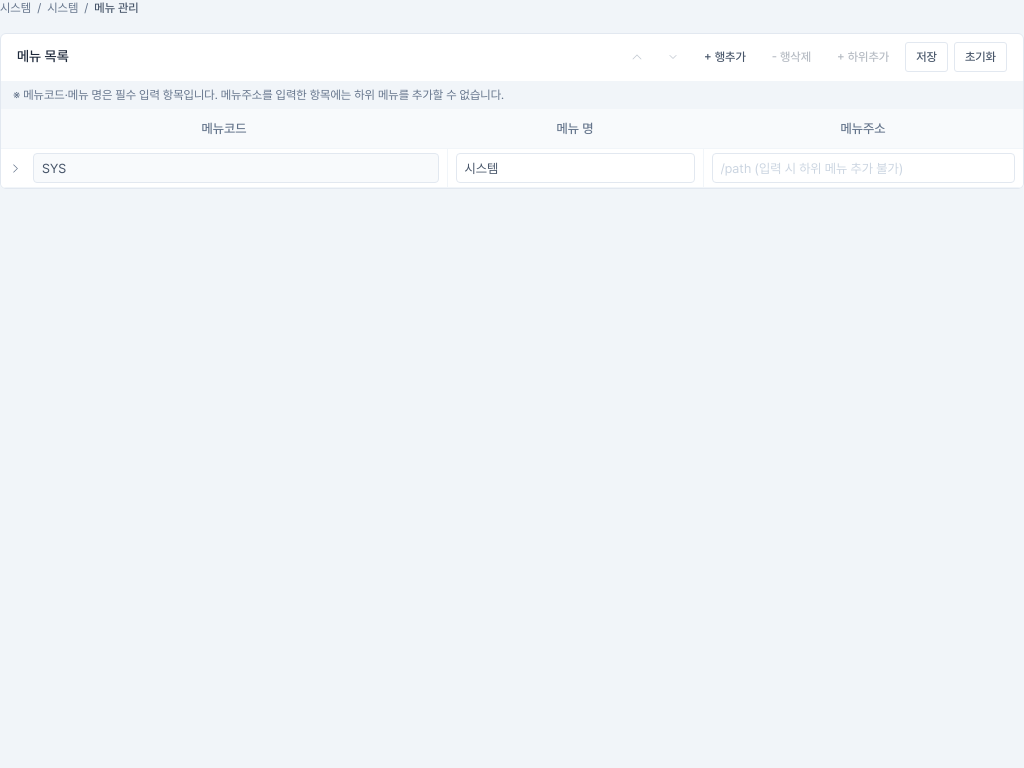
Test case: SystemMenuPage › sends deleted menu rows after delete-list confirmation
This screenshot has width=1024, height=768.
Step 1. Click the button named "펼치기" → {"x": 15, "y": 168}, box [5, 158, 25, 178]
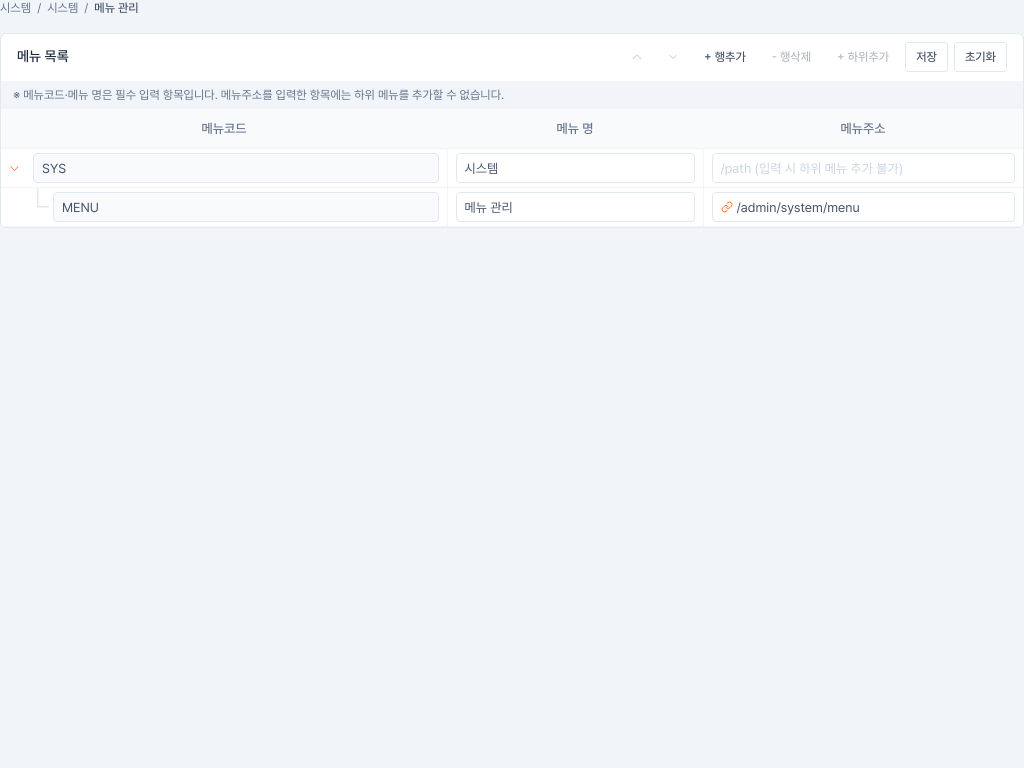
Step 2. Click the field named "MENU 메뉴명" → {"x": 575, "y": 207}, box [464, 193, 686, 221]
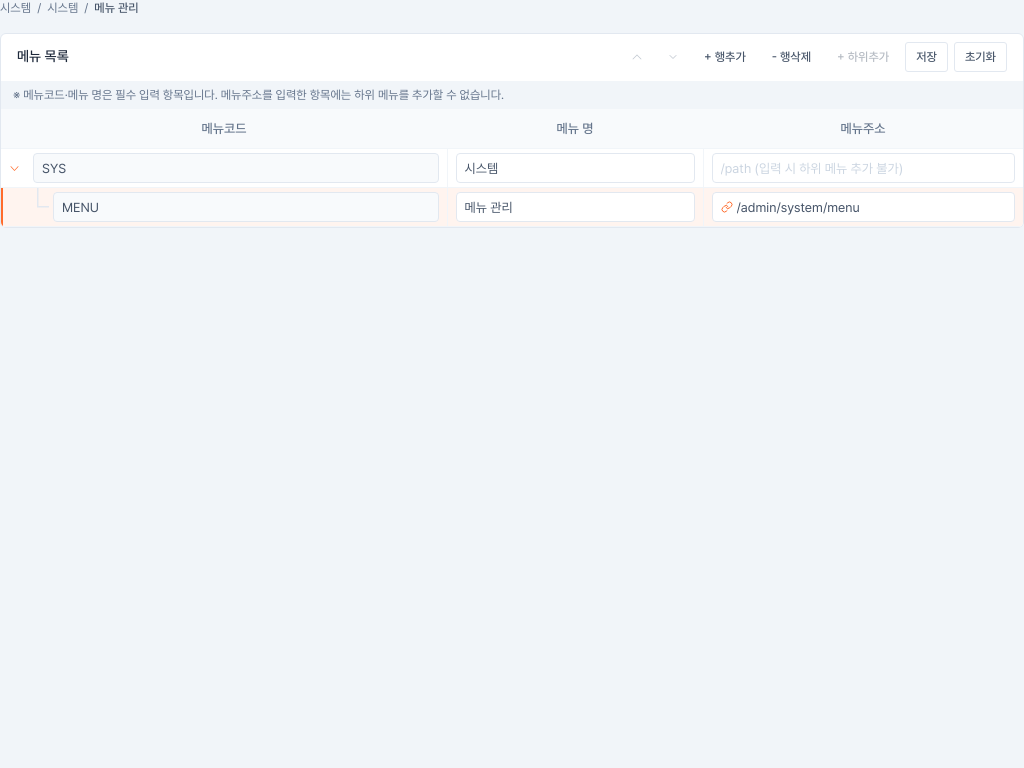
Step 3. Click the button "- 행삭제" → {"x": 791, "y": 57}, box [762, 49, 821, 65]
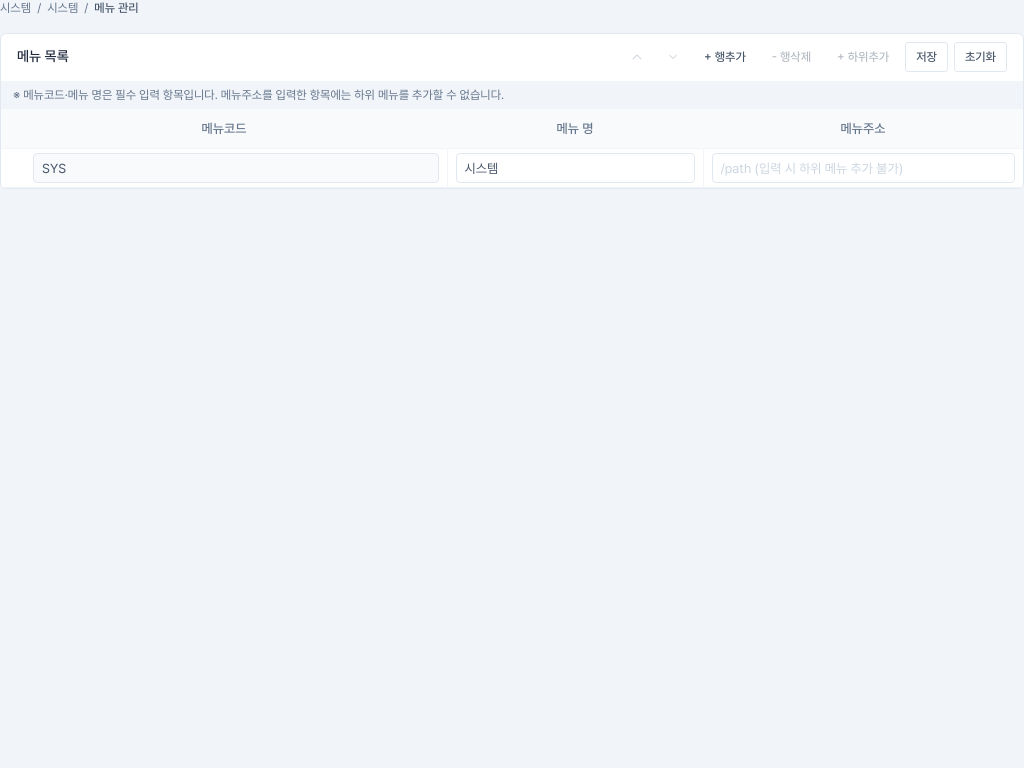
Step 4. Click the button "저장" → {"x": 926, "y": 57}, box [905, 42, 948, 72]
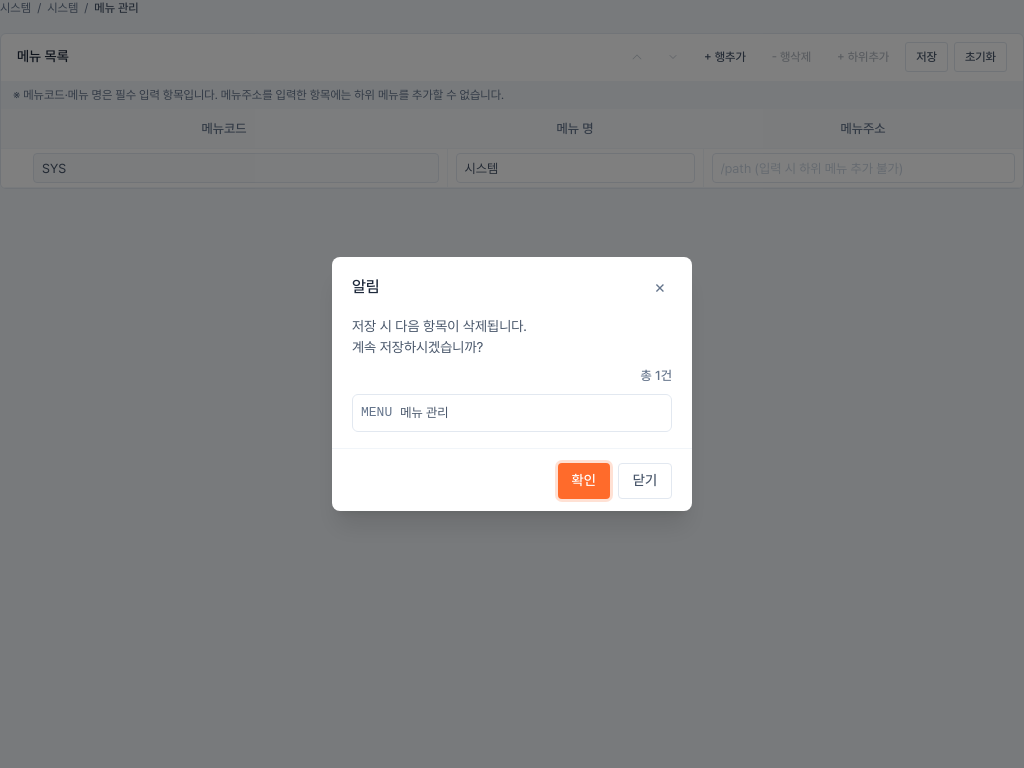
Expected: the dialog "알림" shows "MENU", [361, 405, 392, 420]
Step 5. Click the button "확인" → {"x": 584, "y": 481}, box [558, 463, 610, 499]
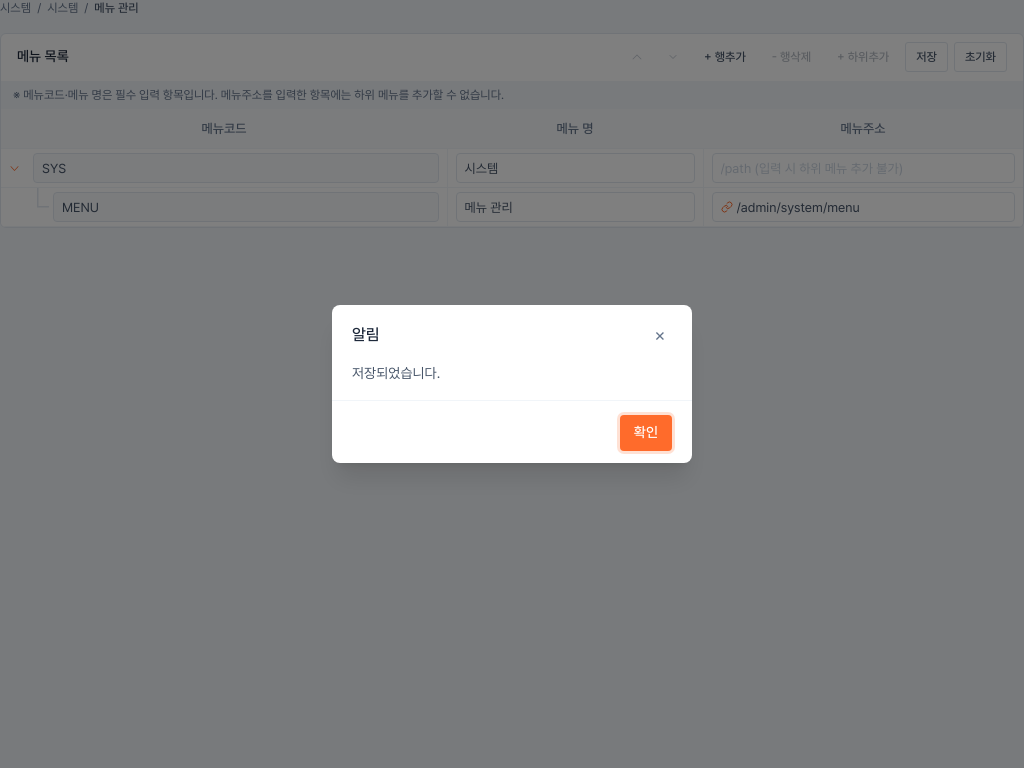
Expected: the dialog "알림" shows "저장되었습니다.", [352, 365, 440, 381]
